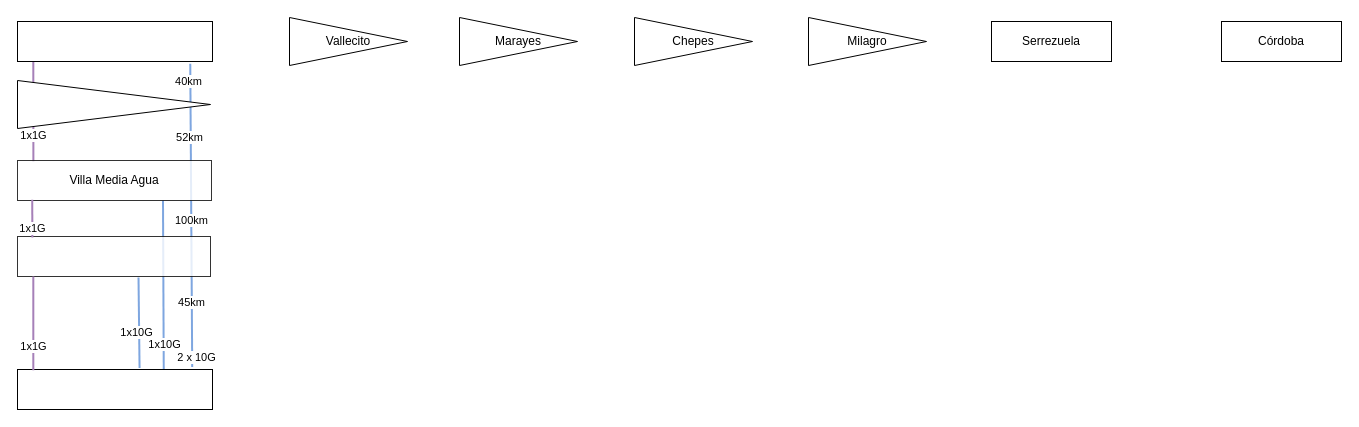
Image size: 1359x427. Some labels were removed from this diagram. Each missing label, with the box of its shape:
Caucete: (16, 80, 210, 128)
Mendoza: (16, 368, 212, 410)
San Juan: (16, 20, 212, 62)
Villa Tulumaya: (16, 236, 210, 276)
